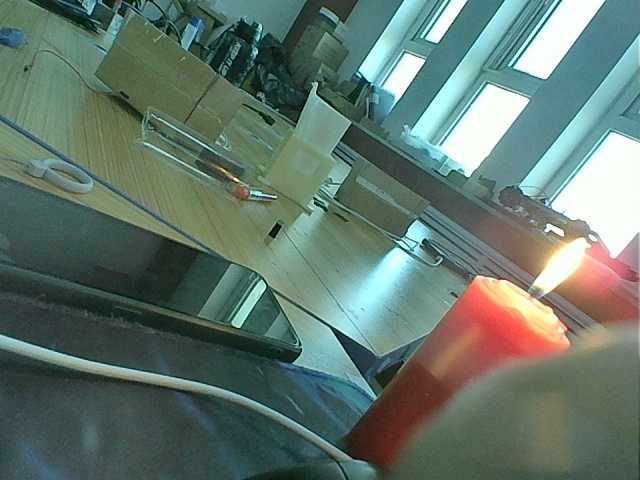candle: (348, 273, 565, 480)
fire: (516, 225, 595, 317)
